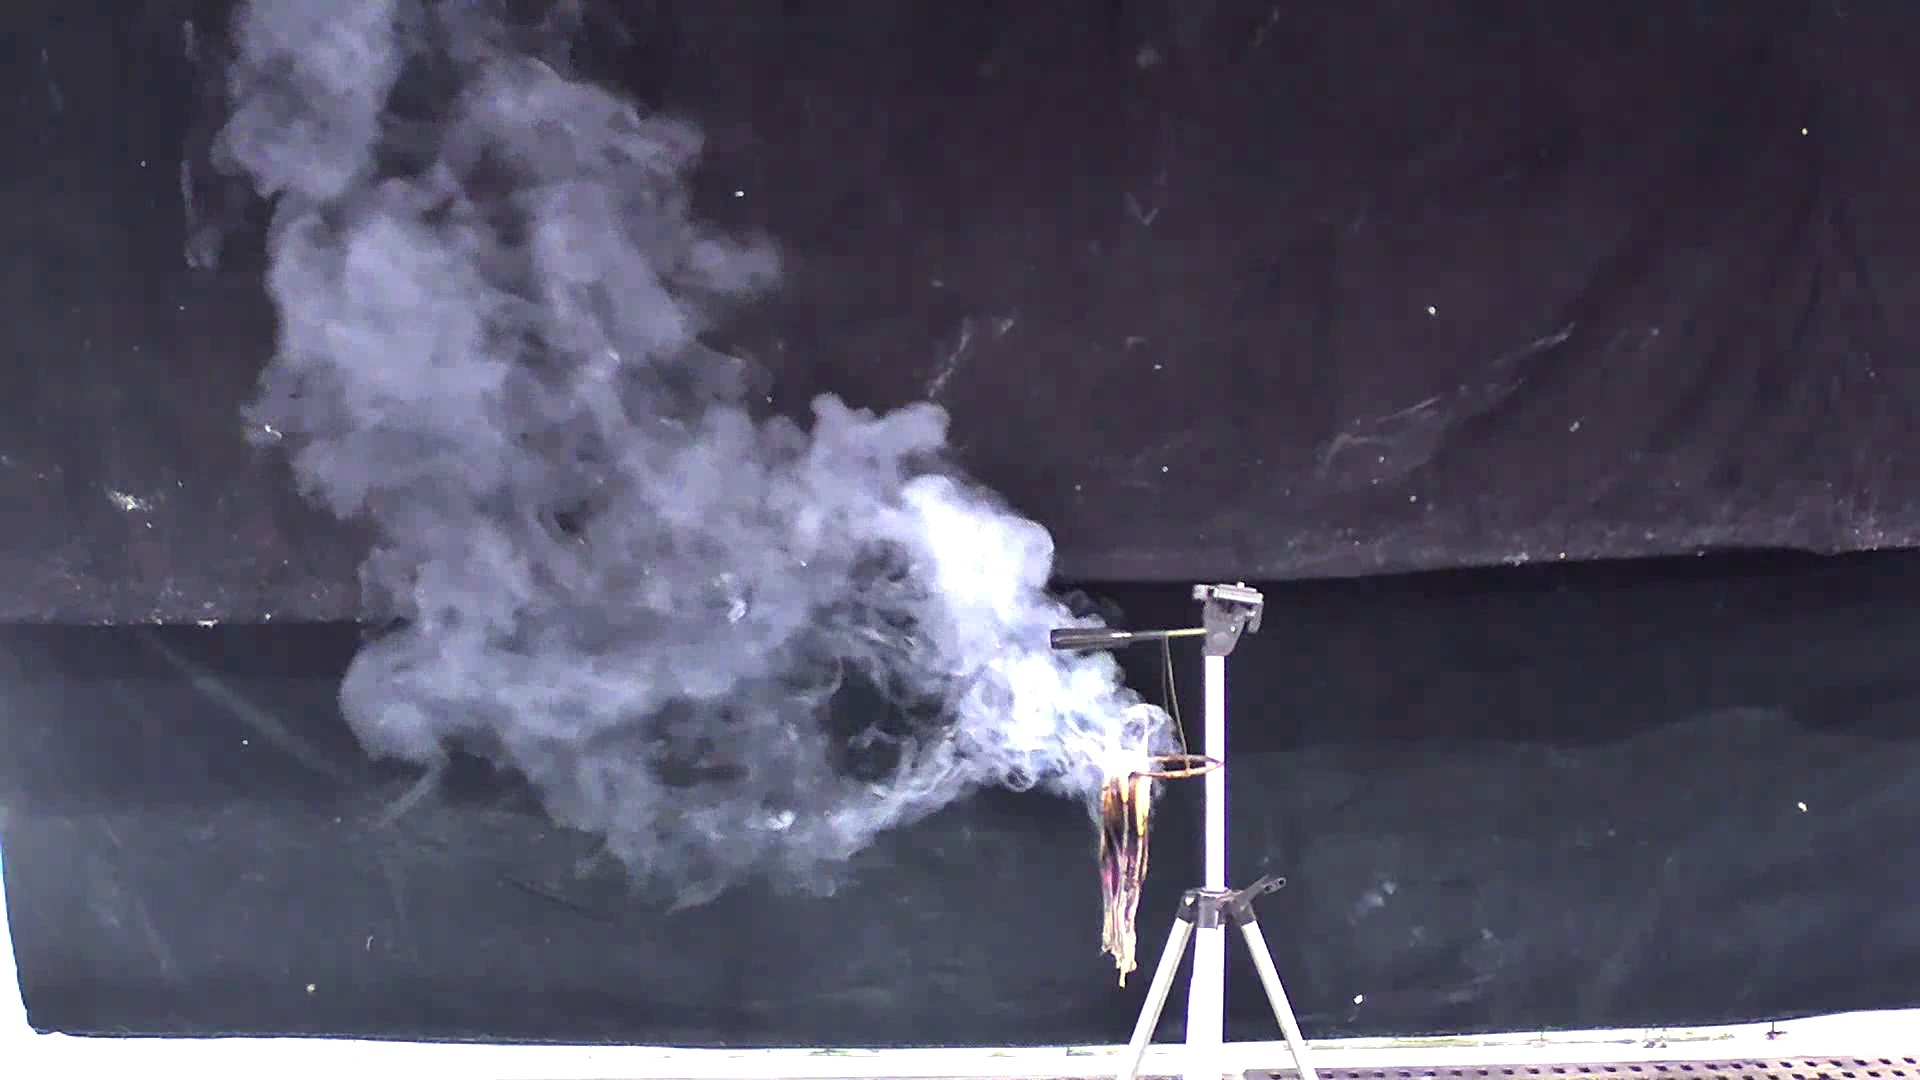smoke: (196, 5, 1185, 891)
